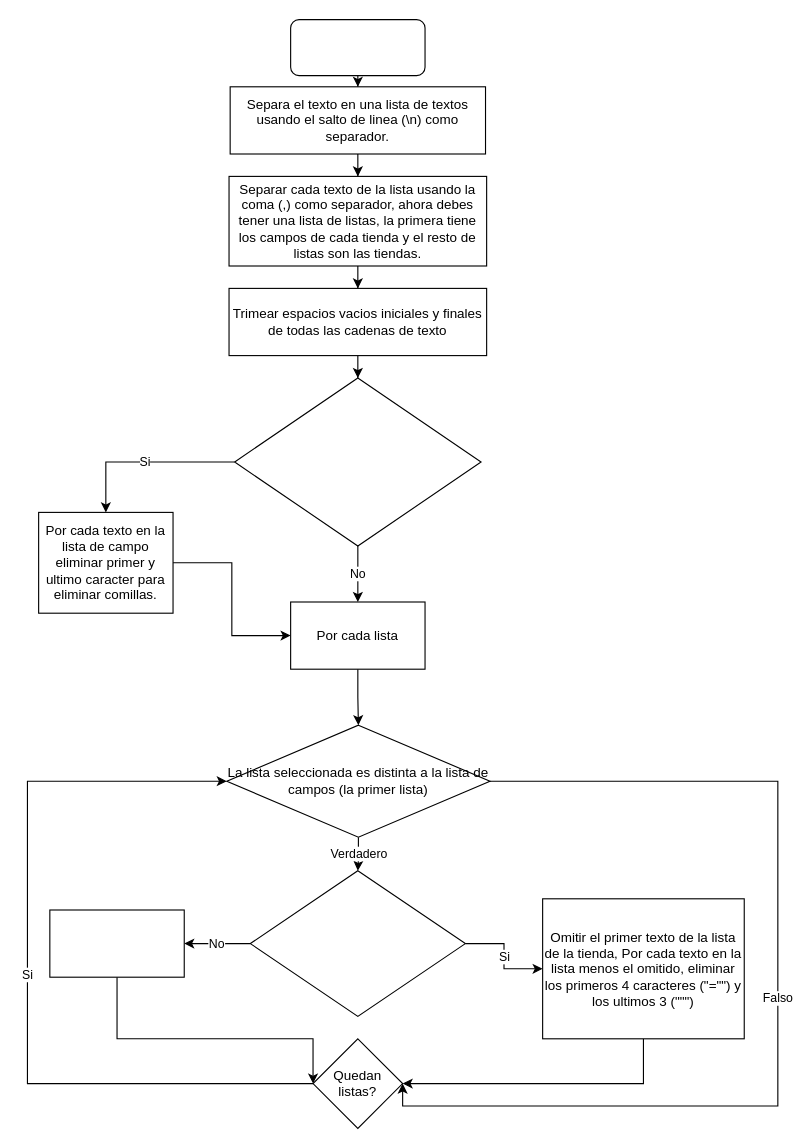
Image size: 812x1148. Some labels were removed from this diagram. The shapes that lost their labels are listed below. From the top down, each one's centre as x and y in pixels, then its label:
pixel 357 47: Lee el archivo como una cadena de texto
pixel 357 461: El primer y ultimo elemento de cada campo es una comilla (")?
pixel 116 943: Eliminar el primer y ultimo caracter de cada texto para eliminar comillas (")
pixel 357 943: En la lista los textos comienzan por ("="") o por un numero.
